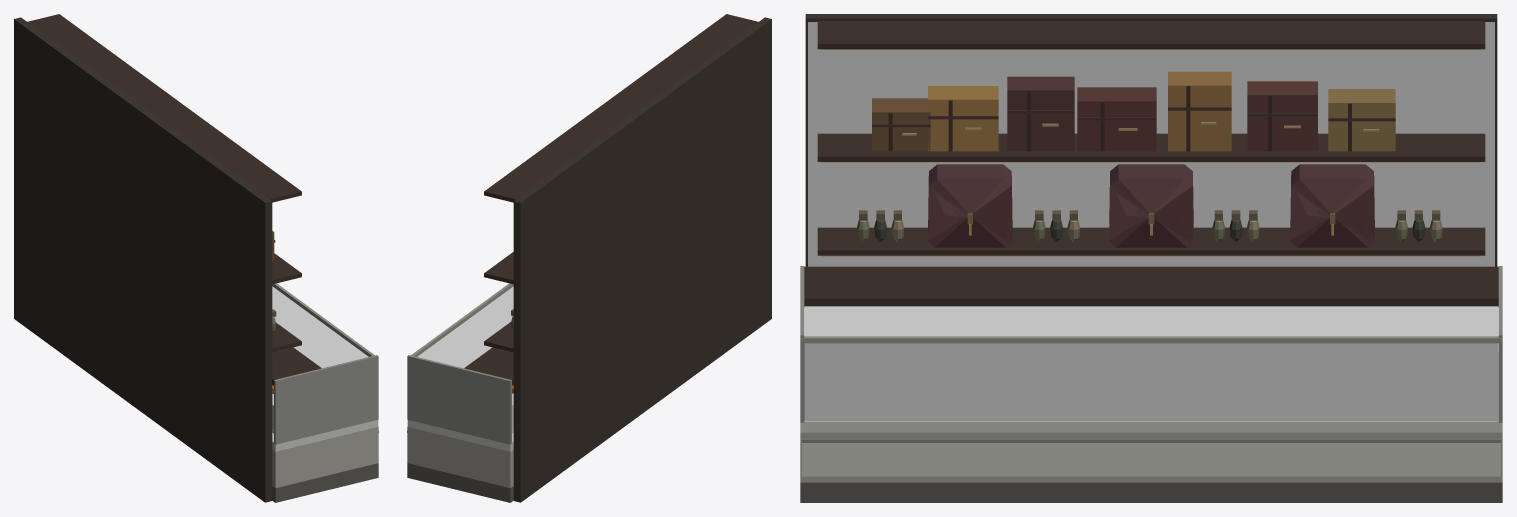
The model's file is counter.glb.
3 views of the same model, side by side, from view 1: azimuth 30°, elevation 25°; view 2: azimuth 150°, elevation 25°; view 3: azimuth 270°, elevation 25° (orthographic). The views are drawn at different scales.
Parts seen in each view (by area): view 1: Surface, Glazing; view 2: Surface, Glazing; view 3: Surface, Glazing.
Part boxes in pixels (x1=…): Surface: x1=14, y1=14, x2=378, y2=502; Glazing: x1=272, y1=286, x2=368, y2=368; Surface: x1=407, y1=14, x2=771, y2=502; Glazing: x1=417, y1=286, x2=513, y2=368; Surface: x1=800, y1=14, x2=1502, y2=502; Glazing: x1=804, y1=306, x2=1498, y2=420.
Size of the model in its own units: 1.04 by 2.65 by 4.07.
